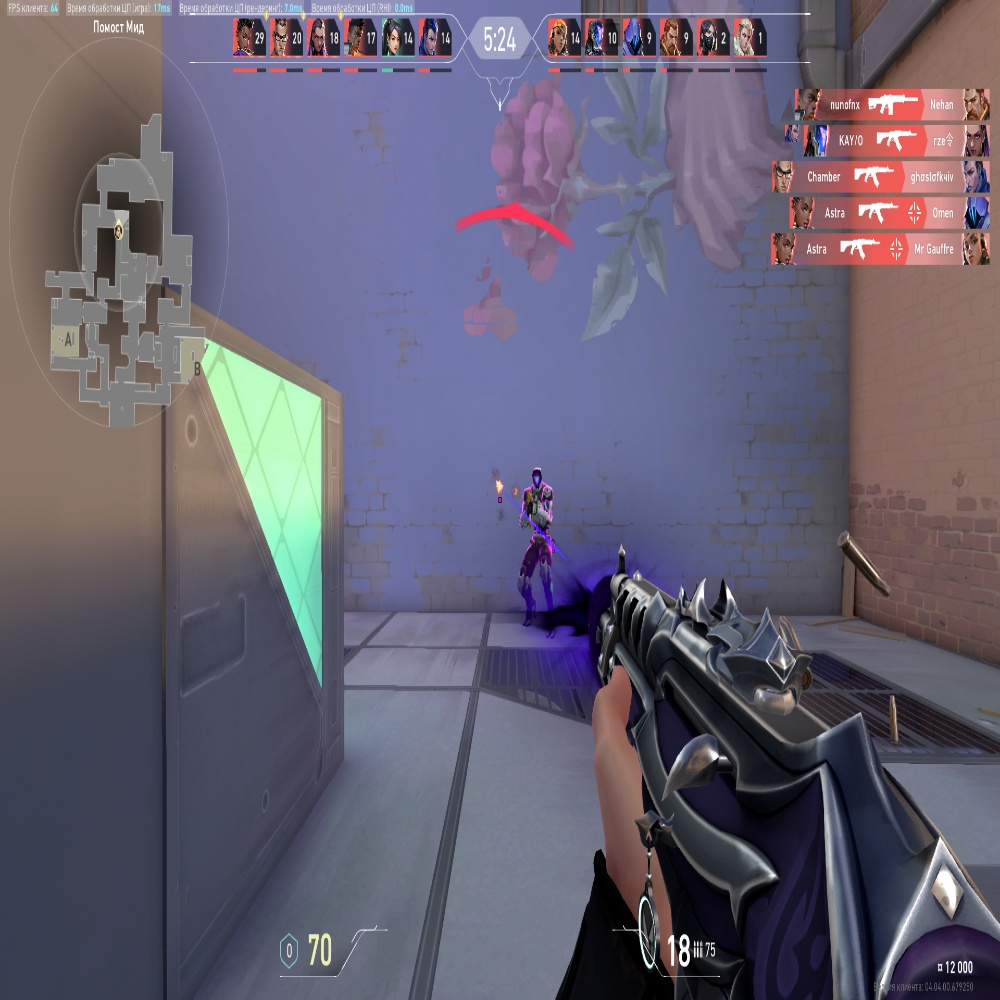body: (526, 491, 552, 539)
head: (532, 470, 542, 488)
